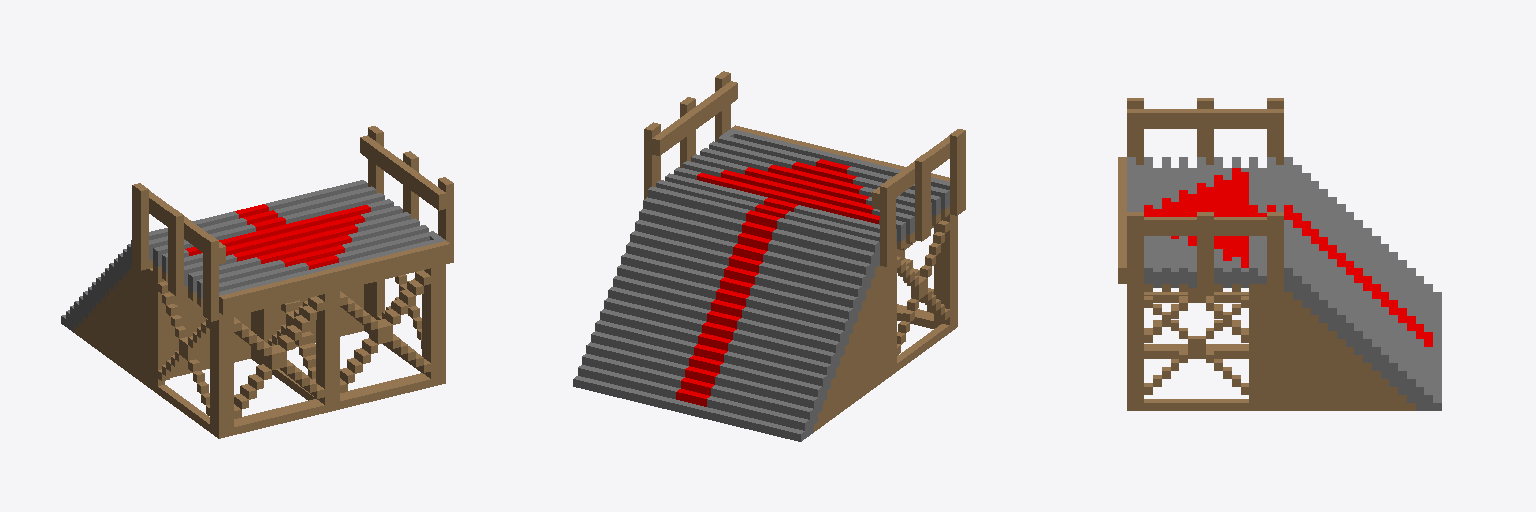
The picture shows the model from 3 angles: view 1: azimuth 30°, elevation 25°; view 2: azimuth 150°, elevation 25°; view 3: azimuth 270°, elevation 25°; orthographic projection.
Size of the model in its own units: 32 by 25 by 37.
1 materials, 1 textured.